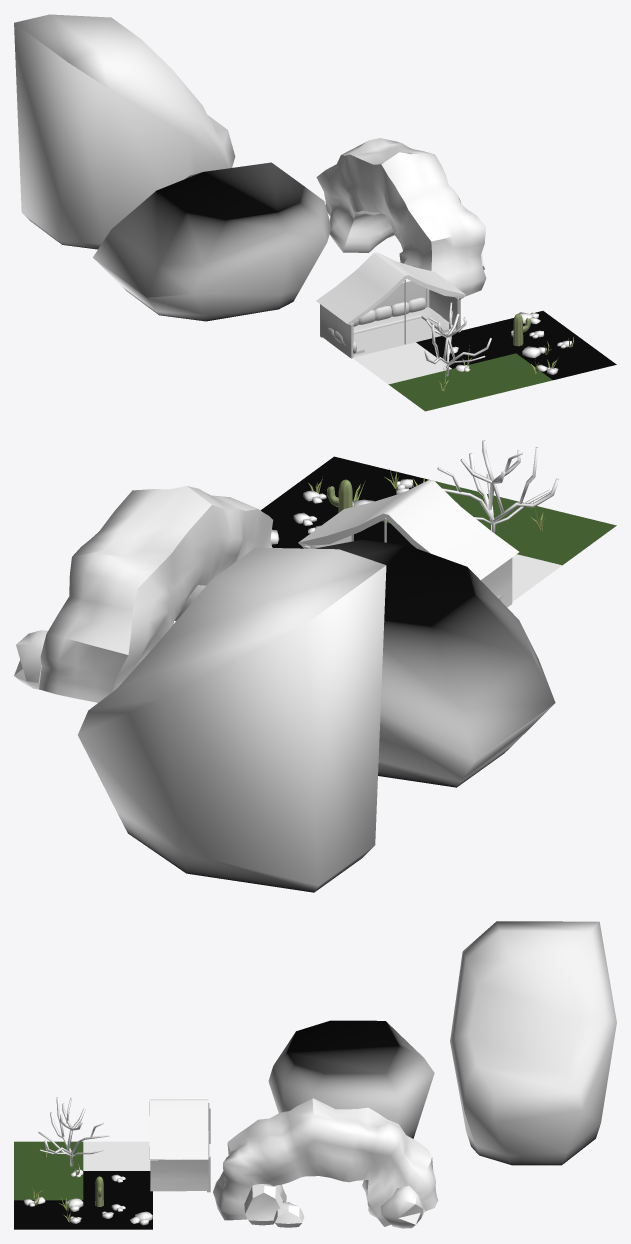
File: enviroment.fbx
The picture shows the model from 3 angles, top to bottom: view 1: azimuth 30°, elevation 25°; view 2: azimuth 150°, elevation 25°; view 3: azimuth 270°, elevation 25°; orthographic projection. The views are drawn at different scales.
Visible parts, largest first — view 1: BIG BOULDER.001, BIG BOULDER, N SHAPED ROCK, TENT, SANDFLOOR GRASS ROCKS, SANDFLOOR GRASS ROCKS.001, SANDFLOOR GRASS, SANDFLOOR, SAND FLOOR WITH MANY ROCKS, SANDFLOOR WITH SOME ROCKS, DRY TREE; view 2: BIG BOULDER.001, BIG BOULDER, N SHAPED ROCK, TENT, SANDFLOOR GRASS, SANDFLOOR GRASS ROCKS.001, DRY TREE, SAND FLOOR WITH MANY ROCKS, SMALL ROCK.002, SANDFLOOR, SANDFLOOR GRASS ROCKS, SANDFLOOR WITH SOME ROCKS; view 3: BIG BOULDER.001, N SHAPED ROCK, BIG BOULDER, TENT, SANDFLOOR GRASS ROCKS.001, SANDFLOOR GRASS ROCKS, SAND FLOOR WITH MANY ROCKS, SANDFLOOR, SANDFLOOR WITH SOME ROCKS, SANDFLOOR GRASS, SMALL ROCK.002, SMALL ROCK (+2 smaller).
Boxes of the visible parts, bbox=[...] form: BIG BOULDER.001: bbox=[14, 14, 235, 249]; BIG BOULDER: bbox=[93, 162, 331, 321]; N SHAPED ROCK: bbox=[316, 138, 486, 296]; TENT: bbox=[316, 252, 465, 358]; SANDFLOOR GRASS ROCKS: bbox=[453, 345, 552, 395]; SANDFLOOR GRASS ROCKS.001: bbox=[516, 337, 616, 380]; SANDFLOOR GRASS: bbox=[388, 369, 488, 411]; SANDFLOOR: bbox=[353, 342, 451, 384]; SAND FLOOR WITH MANY ROCKS: bbox=[480, 311, 579, 353]; SANDFLOOR WITH SOME ROCKS: bbox=[416, 326, 515, 368]; DRY TREE: bbox=[424, 302, 491, 376]; BIG BOULDER.001: bbox=[78, 547, 386, 892]; BIG BOULDER: bbox=[315, 540, 555, 787]; N SHAPED ROCK: bbox=[39, 486, 273, 702]; TENT: bbox=[298, 480, 518, 607]; SANDFLOOR GRASS: bbox=[488, 502, 616, 565]; SANDFLOOR GRASS ROCKS.001: bbox=[280, 456, 427, 510]; DRY TREE: bbox=[437, 440, 559, 533]; SAND FLOOR WITH MANY ROCKS: bbox=[261, 496, 338, 548]; SMALL ROCK.002: bbox=[14, 630, 47, 689]; SANDFLOOR: bbox=[512, 554, 561, 601]; SANDFLOOR GRASS ROCKS: bbox=[381, 477, 518, 527]; SANDFLOOR WITH SOME ROCKS: bbox=[353, 521, 415, 547]; BIG BOULDER.001: bbox=[450, 921, 616, 1165]; N SHAPED ROCK: bbox=[213, 1098, 438, 1226]; BIG BOULDER: bbox=[268, 1020, 434, 1138]; TENT: bbox=[149, 1099, 210, 1192]; SANDFLOOR GRASS ROCKS.001: bbox=[14, 1194, 83, 1229]; SANDFLOOR GRASS ROCKS: bbox=[14, 1159, 83, 1200]; SAND FLOOR WITH MANY ROCKS: bbox=[83, 1200, 152, 1229]; SANDFLOOR: bbox=[83, 1141, 150, 1170]; SANDFLOOR WITH SOME ROCKS: bbox=[83, 1171, 152, 1200]; SANDFLOOR GRASS: bbox=[14, 1141, 83, 1170]; SMALL ROCK.002: bbox=[380, 1185, 424, 1228]; SMALL ROCK: bbox=[244, 1184, 283, 1225].
Bounding box in the file's own units: 2972 × 1817 × 5212.
